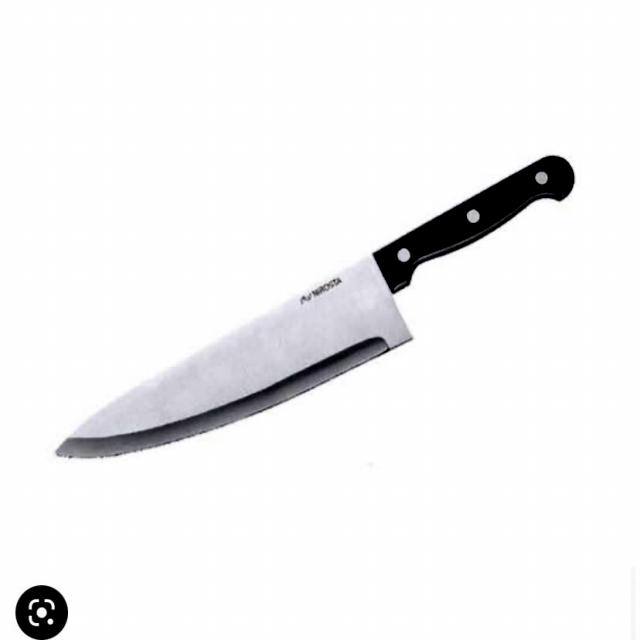knife: (46, 150, 582, 492)
